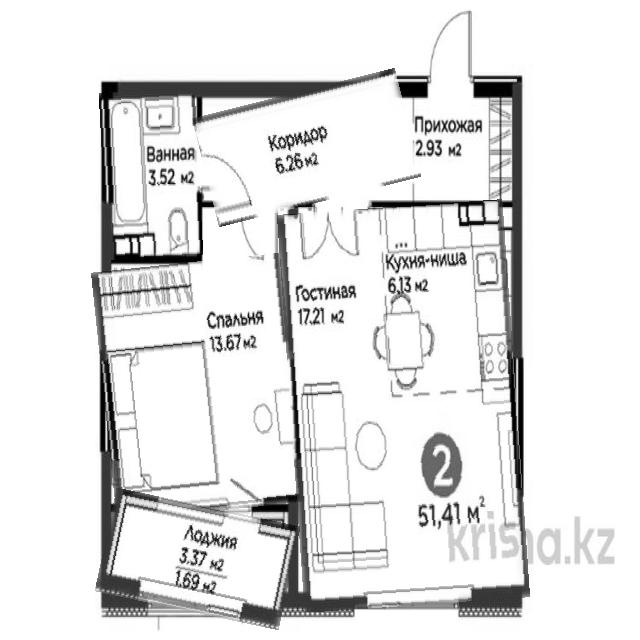balcony: (99, 497, 296, 621)
bathroom: (102, 89, 202, 259)
hallway: (197, 80, 416, 215), (411, 89, 516, 206)
living_room: (97, 257, 300, 517)
studio: (284, 202, 524, 608)
